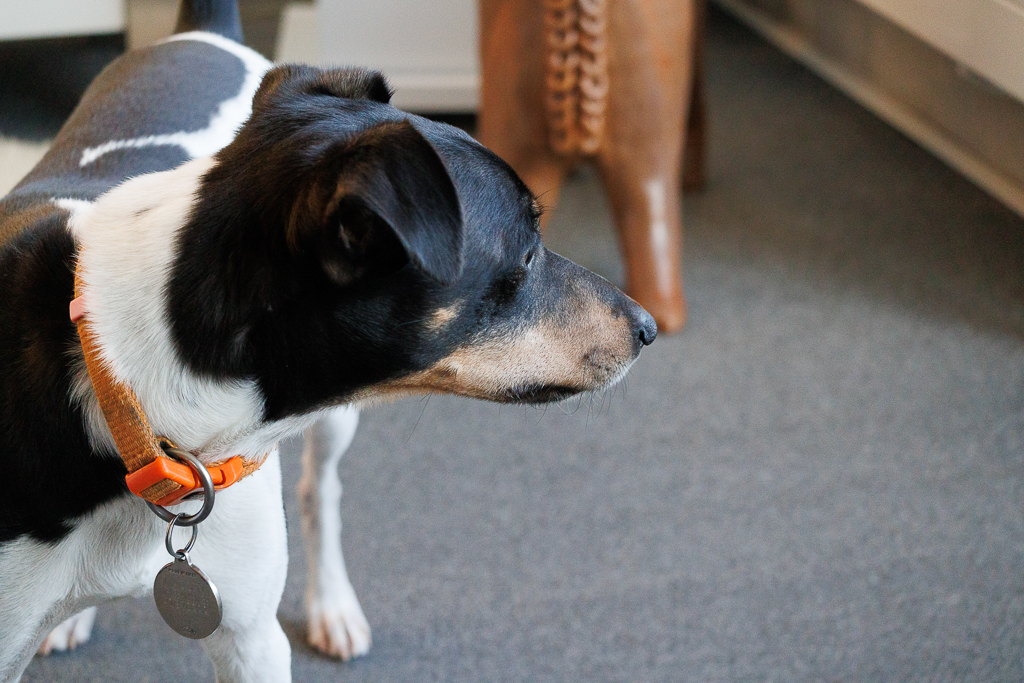Cattle: (462, 0, 722, 353)
Dog: (0, 0, 675, 683)
